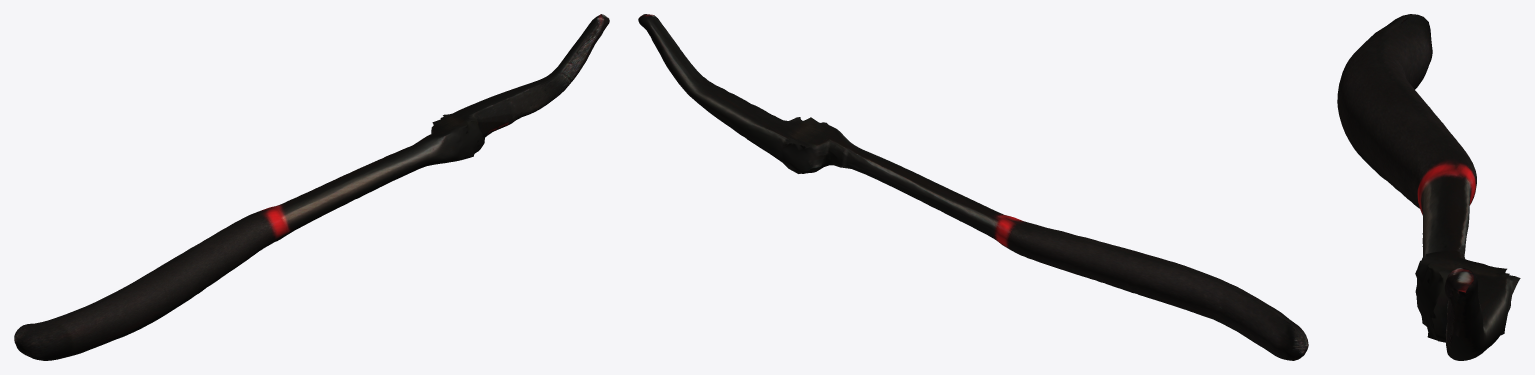
File: plier_right.dae
3 renders of one model, left to right at view 1: azimuth 30°, elevation 25°; view 2: azimuth 150°, elevation 25°; view 3: azimuth 270°, elevation 25°, orthographic. The views are drawn at different scales.
Visible parts, largest first — view 1: plier_right; view 2: plier_right; view 3: plier_right.
Boxes of the visible parts, x1,y1,x2,y2 form: plier_right: (14,14,609,360); plier_right: (638,14,1308,360); plier_right: (1337,14,1520,360).
Size of the model in its own units: 0.2888 by 0.0384 by 0.087.
Materials: 1 (1 with a texture image).
